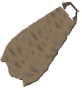lavacape: (1, 1, 81, 89)
